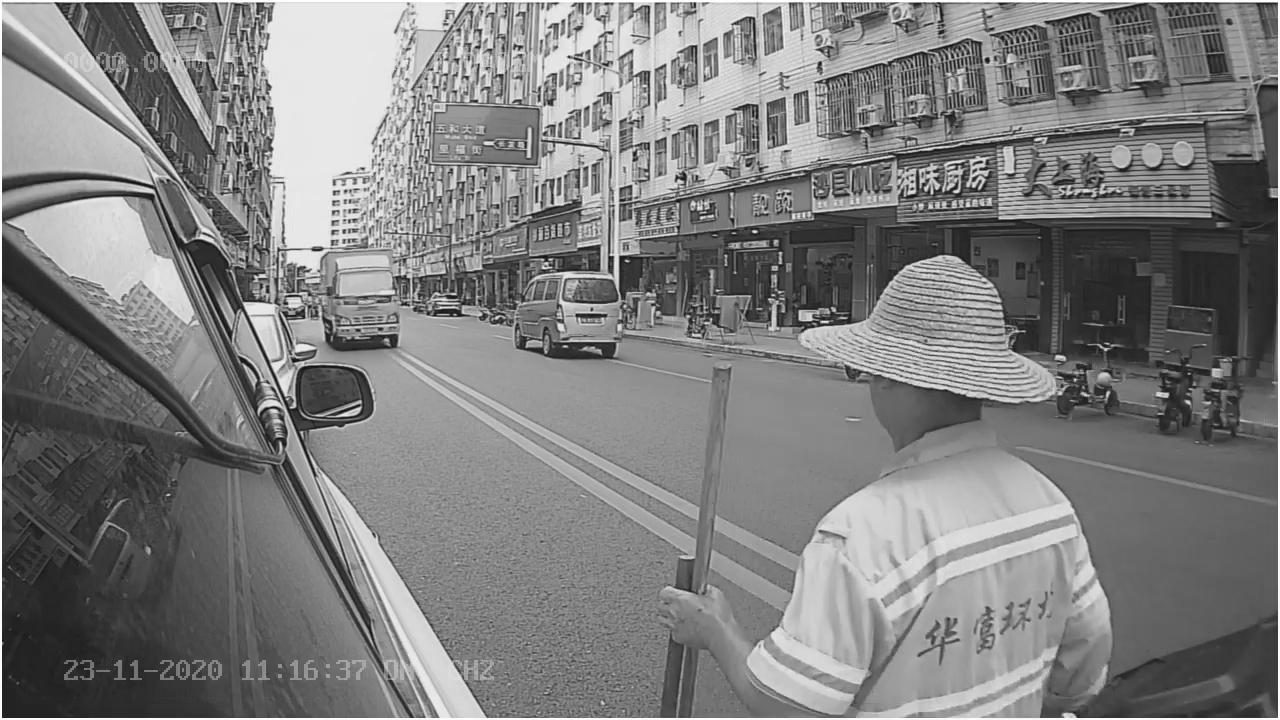person: (749, 252, 1123, 717)
